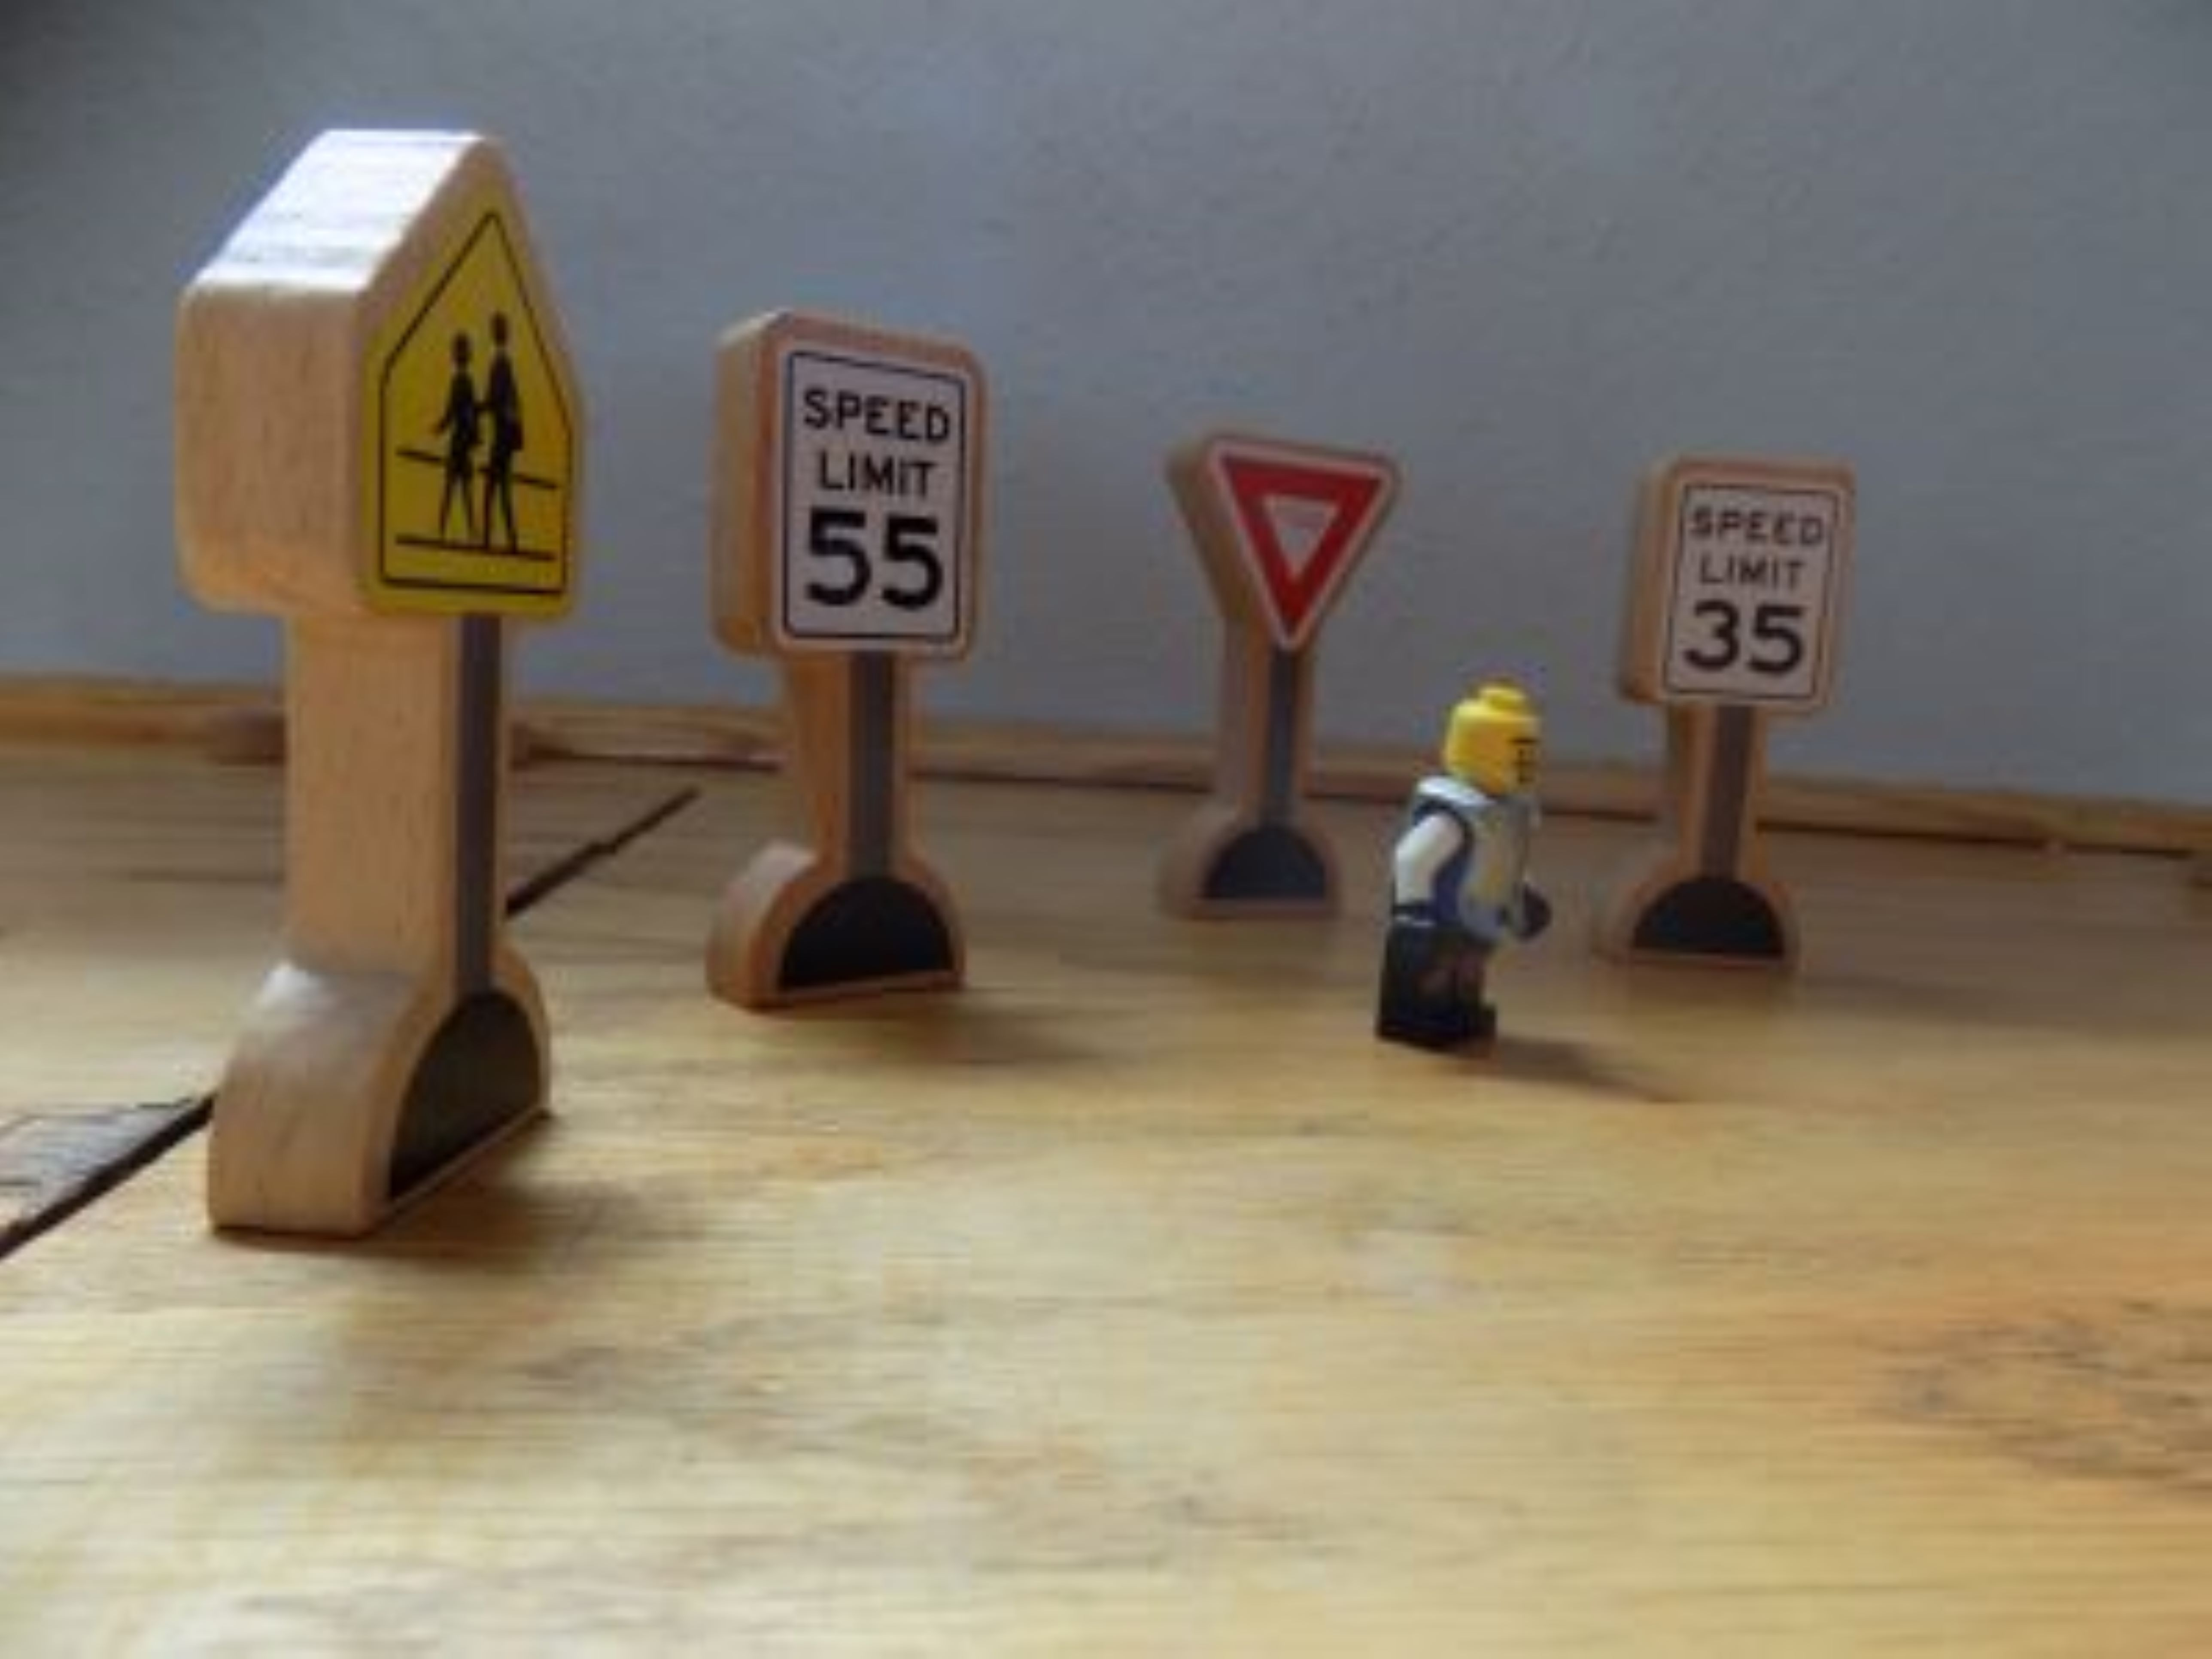Pedestrians: (188, 115, 595, 637)
Speed Limit 35: (1634, 440, 1833, 733)
Speed Limit 55: (724, 301, 983, 694)
Yield Sign: (1167, 426, 1407, 680)
